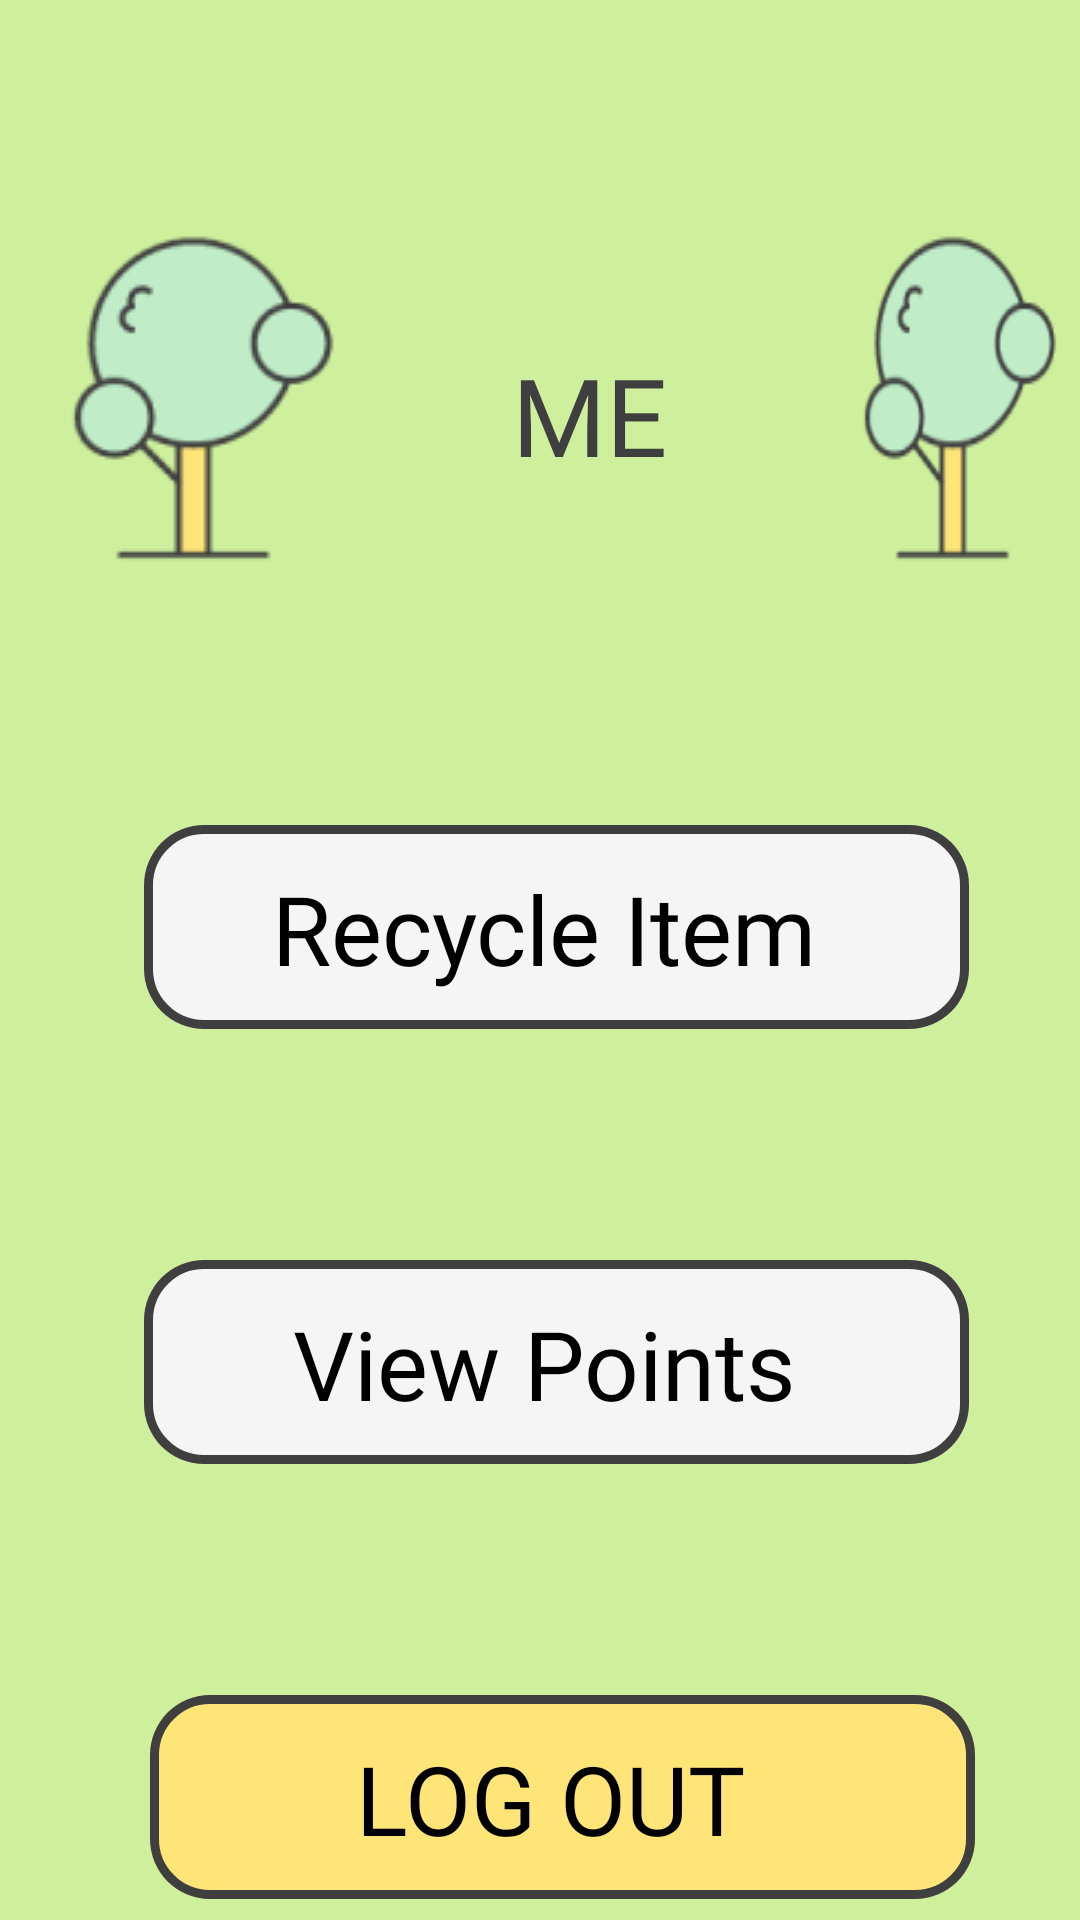

Icons on this 1080px×1920px Android screen, each with its box as (x1, y1, x2, y2):
little tree: (74, 236, 334, 559), (864, 236, 1056, 559)
